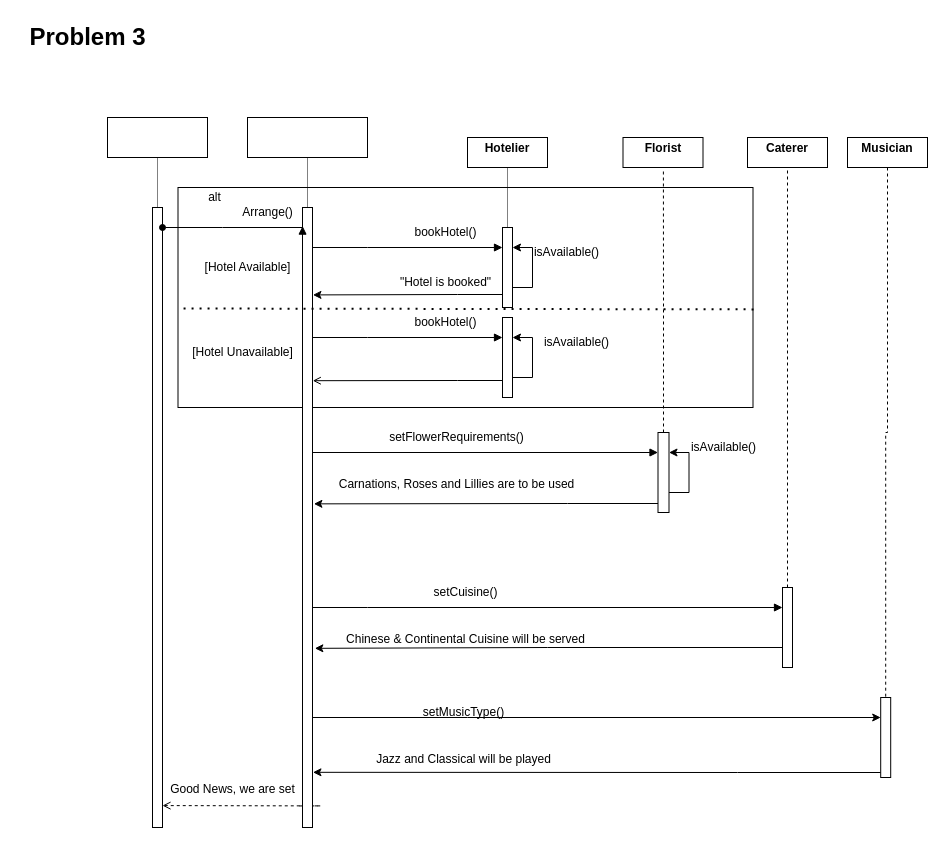
The diagram is 945 pixels wide and 845 high, and some of its shapes have lost their labels. Here are the shapes that lost their labels. From the top down, the centre of each, then its label:
pixel 157 137: Client
pixel 307 137: EventManager
